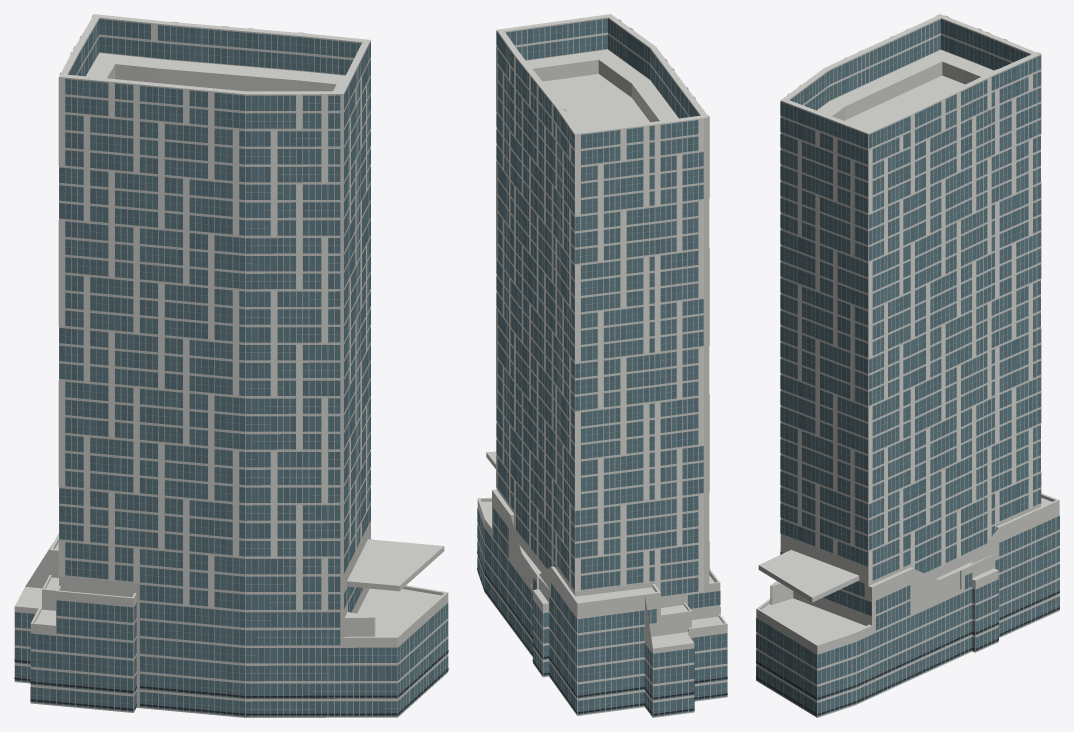
Rendered from stream.glb.
3 renders of one model, left to right at view 1: azimuth 30°, elevation 25°; view 2: azimuth 150°, elevation 25°; view 3: azimuth 270°, elevation 25°, orthographic. The views are drawn at different scales.
Parts seen in each view (by area): view 1: stream_wall, stream_glass2, stream_glass1, stream_glass0, stream_spandrel, stream_frame, stream_roof, stream_sign_housing; view 2: stream_wall, stream_glass1, stream_glass0, stream_glass2, stream_spandrel, stream_frame, stream_roof, stream_sign_housing; view 3: stream_wall, stream_glass1, stream_glass0, stream_glass2, stream_spandrel, stream_frame, stream_roof, stream_sign_housing.
Part boxes in pixels (x1=…): stream_wall: x1=14, y1=17, x2=448, y2=717; stream_glass2: x1=21, y1=19, x2=448, y2=716; stream_glass1: x1=15, y1=19, x2=448, y2=716; stream_glass0: x1=15, y1=22, x2=445, y2=716; stream_spandrel: x1=15, y1=15, x2=448, y2=717; stream_frame: x1=14, y1=20, x2=448, y2=716; stream_roof: x1=15, y1=14, x2=447, y2=637; stream_sign_housing: x1=14, y1=650, x2=448, y2=715; stream_wall: x1=477, y1=17, x2=727, y2=717; stream_glass1: x1=477, y1=19, x2=721, y2=715; stream_glass0: x1=477, y1=19, x2=727, y2=716; stream_glass2: x1=479, y1=18, x2=727, y2=716; stream_spandrel: x1=484, y1=19, x2=726, y2=717; stream_frame: x1=482, y1=19, x2=726, y2=715; stream_roof: x1=477, y1=14, x2=726, y2=648; stream_sign_housing: x1=477, y1=551, x2=727, y2=715; stream_wall: x1=756, y1=18, x2=1059, y2=717; stream_glass1: x1=763, y1=19, x2=1059, y2=716; stream_glass0: x1=756, y1=23, x2=1059, y2=716; stream_glass2: x1=756, y1=21, x2=1059, y2=712; stream_spandrel: x1=756, y1=14, x2=1059, y2=716; stream_frame: x1=756, y1=23, x2=1059, y2=709; stream_roof: x1=756, y1=14, x2=1059, y2=645; stream_sign_housing: x1=756, y1=591, x2=1059, y2=715.
Size of the model in its own units: 105 by 182 by 88.93.
